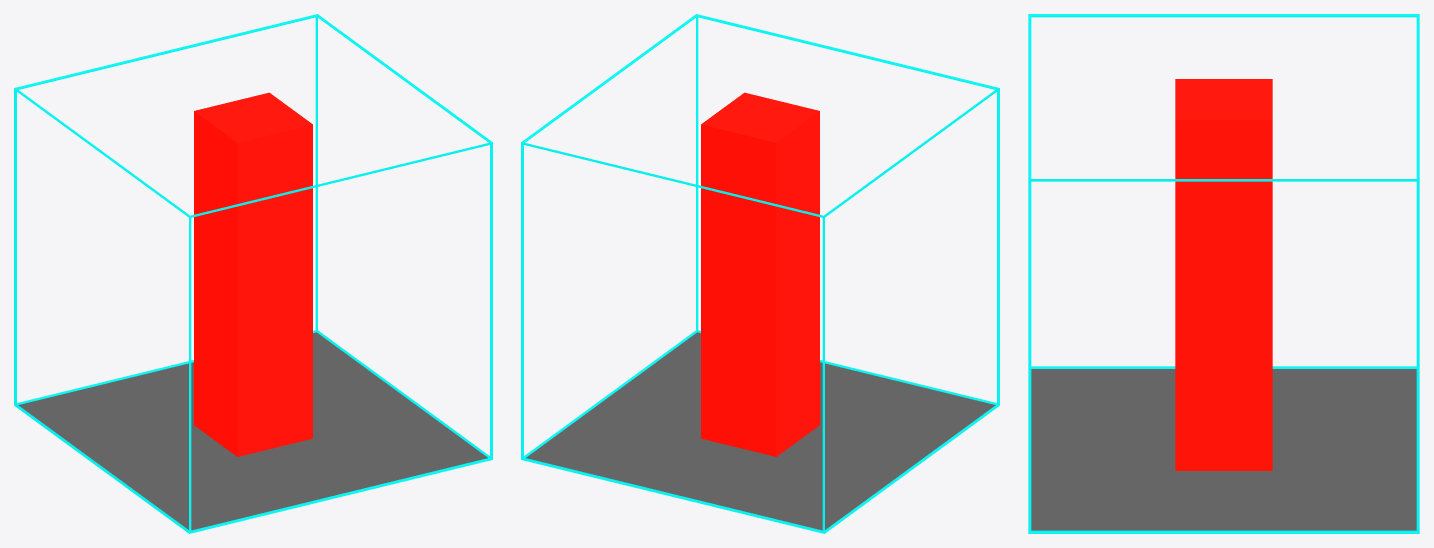
3 renders of one model, left to right at view 1: azimuth 30°, elevation 25°; view 2: azimuth 150°, elevation 25°; view 3: azimuth 270°, elevation 25°, orthographic. The views are drawn at different scales.
Parts seen in each view (by area): view 1: Cube, Plane, Cube.001; view 2: Cube, Plane, Cube.001; view 3: Plane, Cube, Cube.001.
Boxes of the visible parts, x1,y1,x2,y2 form: Cube: (194, 92, 312, 456); Plane: (18, 332, 487, 530); Cube.001: (14, 14, 492, 533); Cube: (701, 92, 819, 456); Plane: (526, 332, 995, 530); Cube.001: (521, 14, 999, 533); Plane: (1031, 369, 1416, 530); Cube: (1175, 79, 1272, 470); Cube.001: (1028, 14, 1419, 533).
Bounding box in the file's own units: 8.05 × 8.15 × 8.05.
